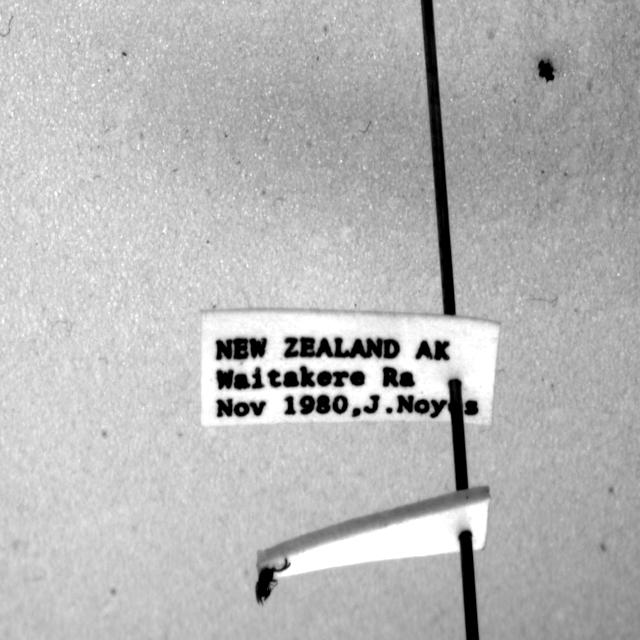typed_label: (201, 309, 500, 426)
